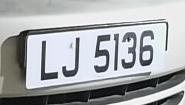1: (110, 30, 123, 74)
3: (121, 28, 138, 73)
5: (91, 31, 112, 77)
6: (138, 26, 155, 70)
J: (59, 33, 84, 82)
L: (37, 33, 62, 86)
